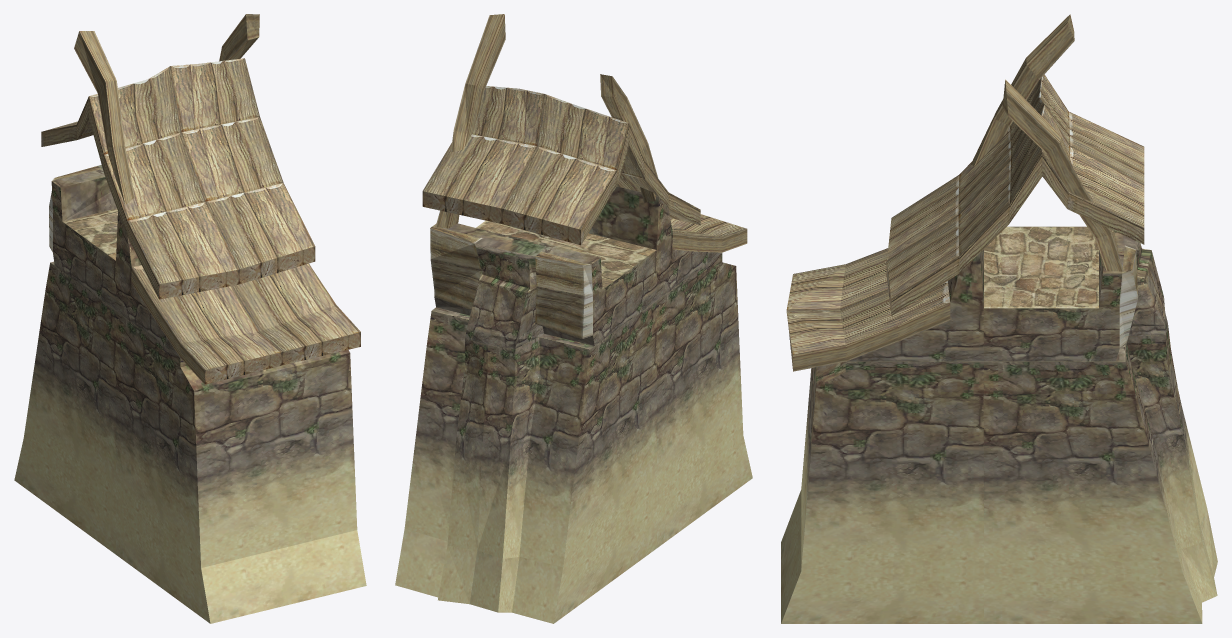
The model's file is C3SMWA10SH_H.obj.
3 renders of one model, left to right at view 1: azimuth 30°, elevation 25°; view 2: azimuth 150°, elevation 25°; view 3: azimuth 270°, elevation 25°, orthographic. The views are drawn at different scales.
Parts seen in each view (by area): view 1: Node 0; view 2: Node 0; view 3: Node 0.
Part boxes in pixels (x1,y1,x2,y2): Node 0: (14,14,366,623); Node 0: (395,14,752,623); Node 0: (781,14,1217,623).
Bounding box in the file's own units: 5 × 15.34 × 11.28.
2 materials, 2 textured.
